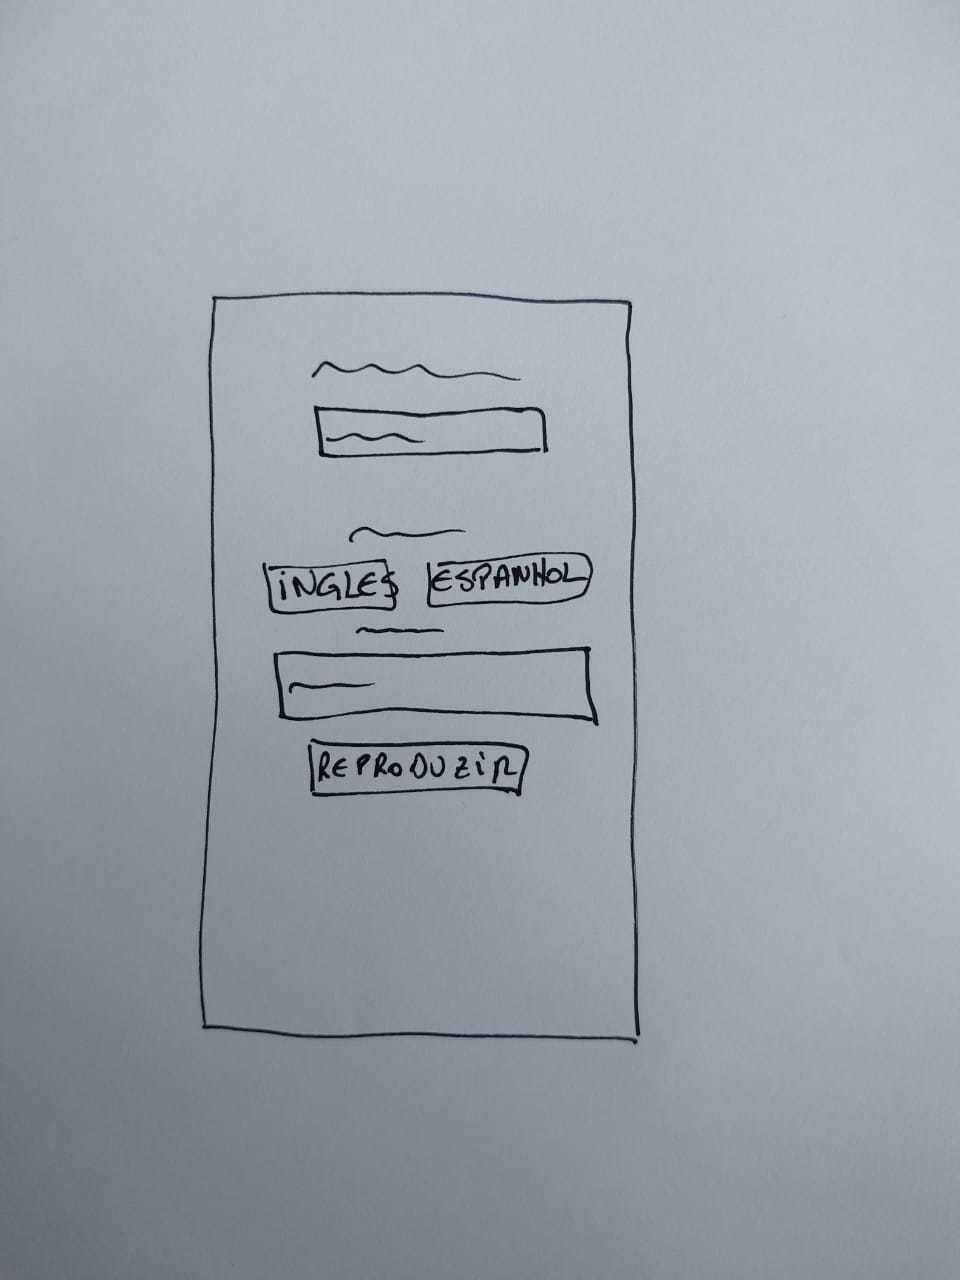Button: (306, 736, 529, 796), (426, 548, 594, 608), (262, 557, 397, 614)
Label: (311, 361, 523, 382), (348, 522, 468, 545), (355, 623, 451, 639)
Screen: (197, 290, 639, 1043)
TextBox: (273, 645, 598, 723), (313, 404, 551, 459)
